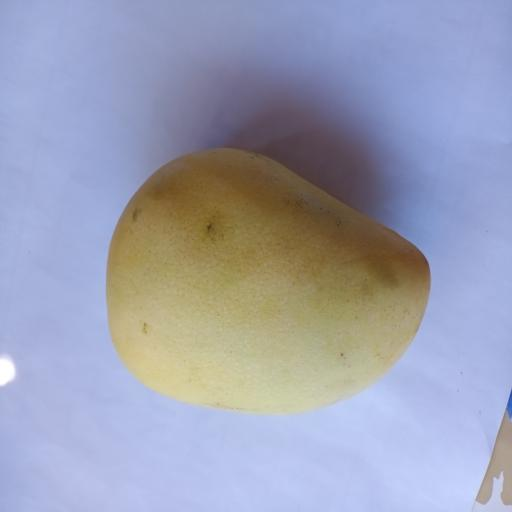mango-ripe: (84, 135, 444, 437)
